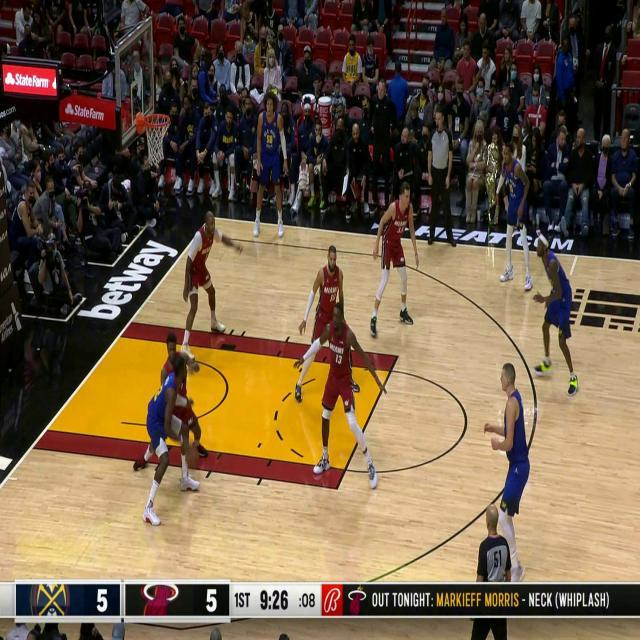rim: (186, 442, 200, 468)
